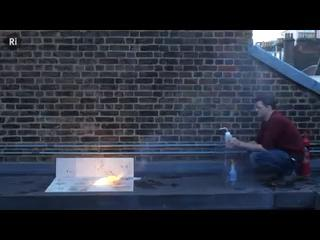Fire: (93, 170, 125, 187)
